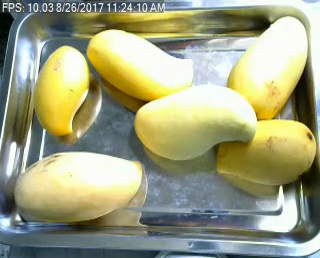Mango: (13, 151, 143, 223), (134, 84, 256, 160), (228, 16, 306, 120), (86, 30, 193, 102), (212, 120, 314, 186), (29, 44, 89, 137)
